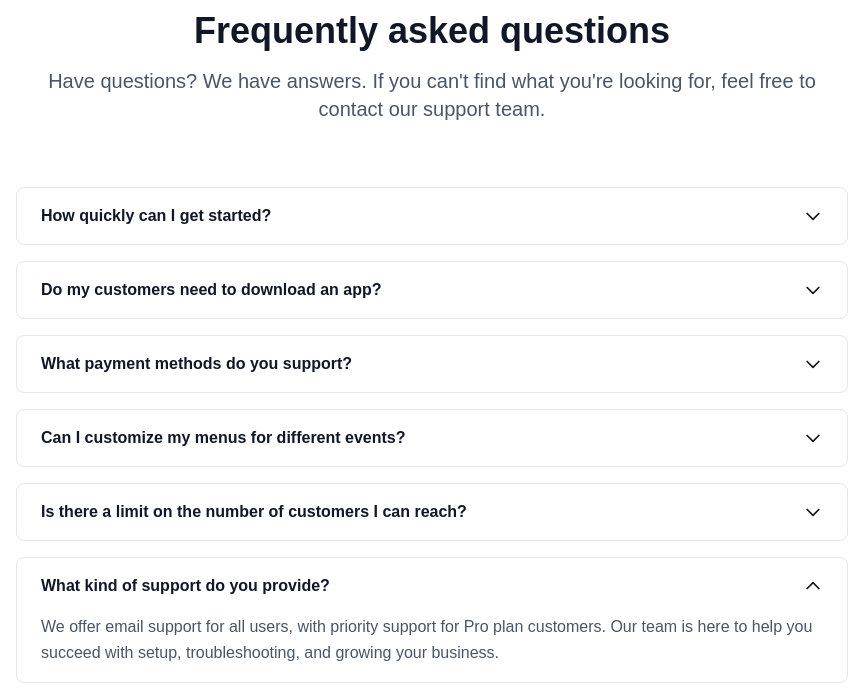
Scenario: FAQ › expands and collapses FAQ items when clicked
Expected: the text "You can get started in just a few minutes" is not shown
Click to expand
Click the button "How quickly can I get started?" at (156, 216), box [17, 188, 847, 244]
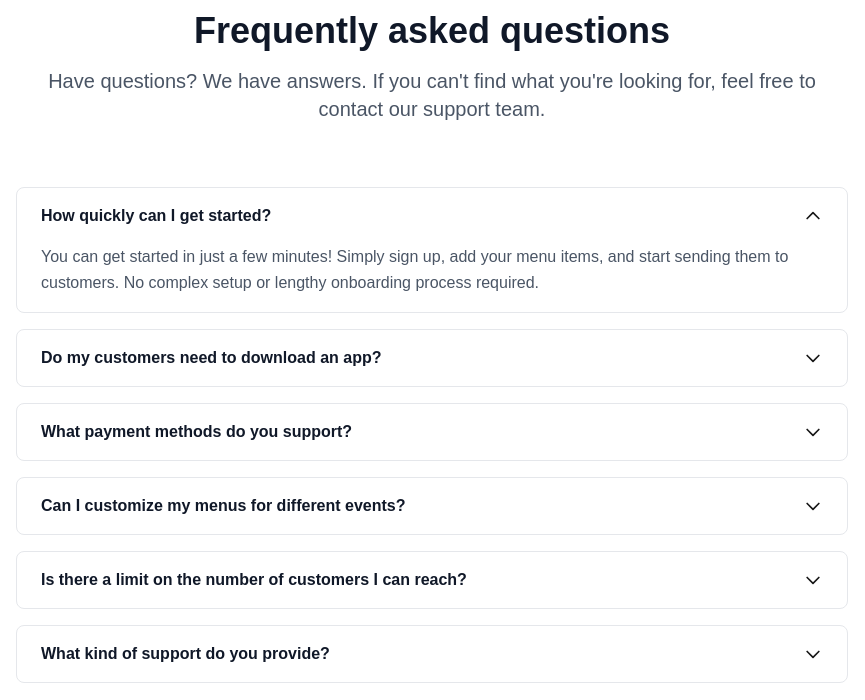
Now the text "You can get started in just a few minutes" is shown, box [41, 248, 788, 291]
Click to collapse
Click the button "How quickly can I get started?" at (156, 216), box [17, 188, 847, 244]
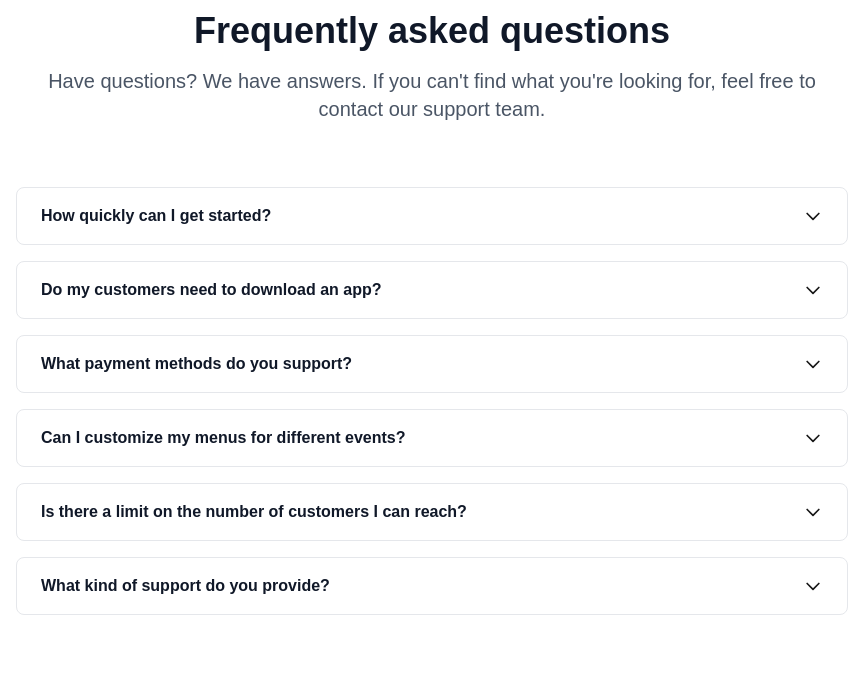
Now the text "You can get started in just a few minutes" is gone
